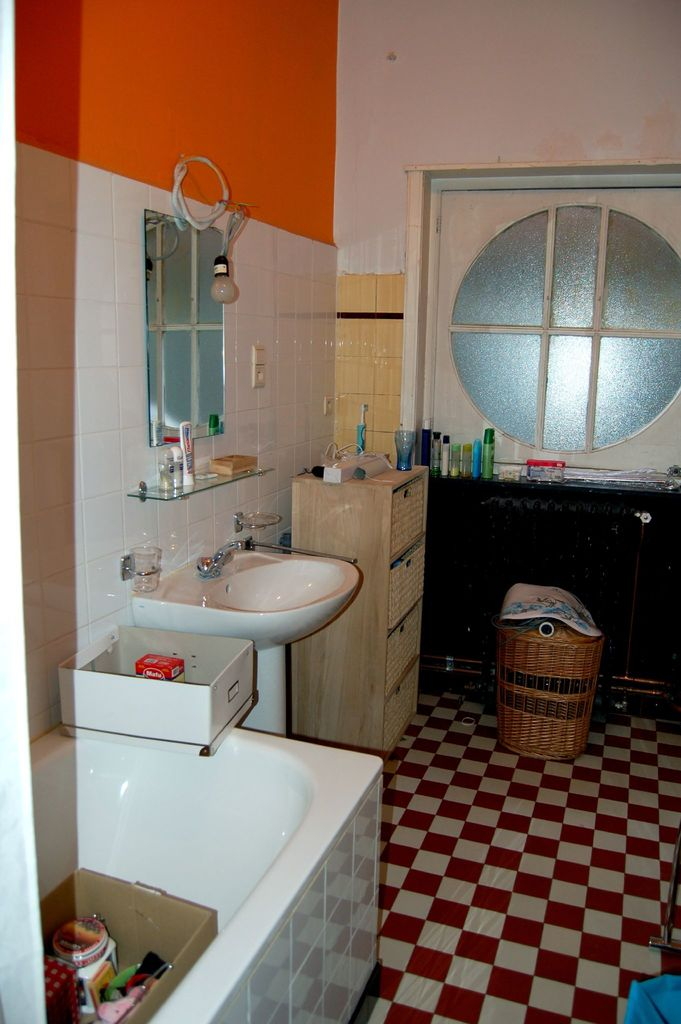tap: (194, 538, 260, 575)
